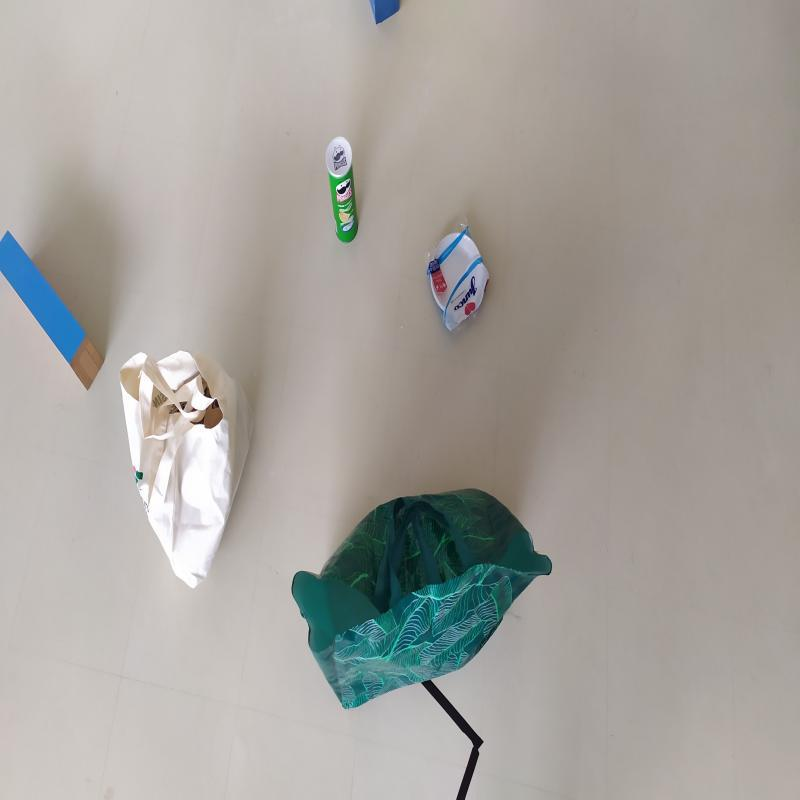Bag: (288, 480, 554, 714), (118, 344, 255, 596)
Plate: (427, 229, 489, 331)
Pringles: (327, 135, 362, 244)
